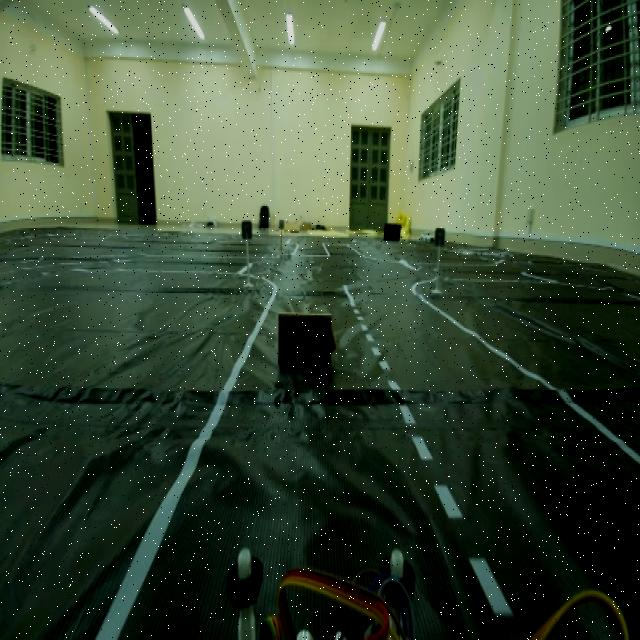roadblock: (272, 301, 346, 377)
